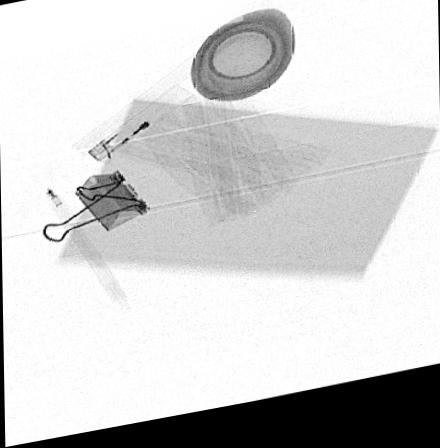Lighter: (85, 89, 192, 168)
